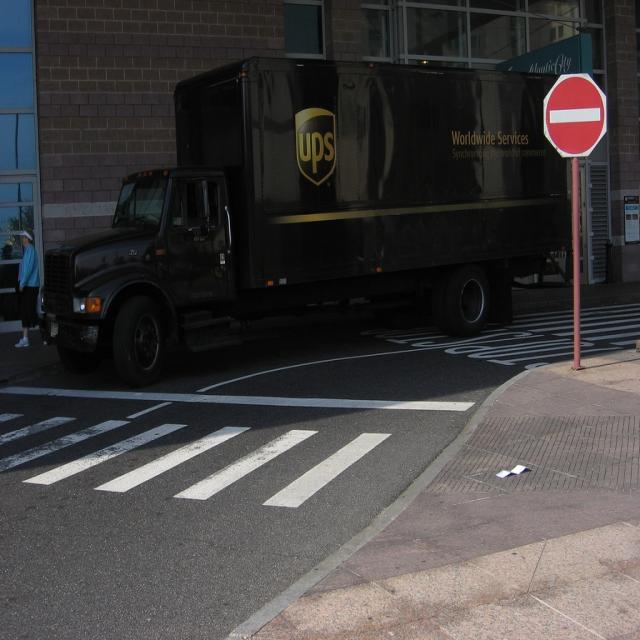ups: (296, 107, 338, 188)
